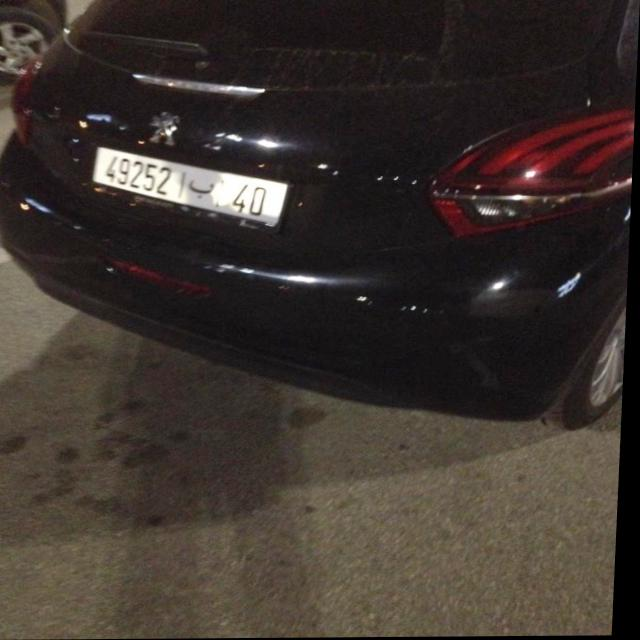License-Plate: (95, 148, 290, 226)
